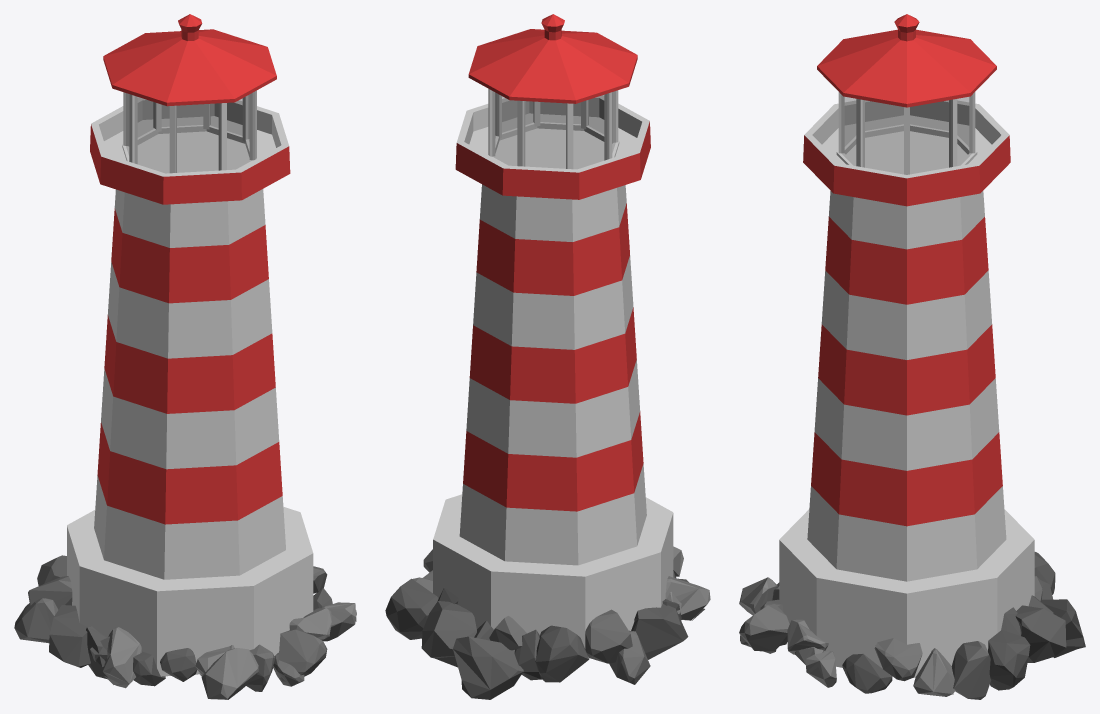
The model's file is lighthouse.fbx.
3 renders of one model, left to right at view 1: azimuth 30°, elevation 25°; view 2: azimuth 150°, elevation 25°; view 3: azimuth 270°, elevation 25°, orthographic. The views are drawn at different scales.
Visible parts, largest first — view 1: lighthouse, stone_03; view 2: lighthouse, stone_03; view 3: lighthouse, stone_03.
Boxes of the visible parts, <box> form: lighthouse: <box>67,14,313,676</box>; stone_03: <box>14,555,356,699</box>; lighthouse: <box>433,14,673,658</box>; stone_03: <box>385,546,710,699</box>; lighthouse: <box>779,14,1034,677</box>; stone_03: <box>739,552,1085,699</box>.
Bounding box in the file's own units: 180 × 410 × 200.
